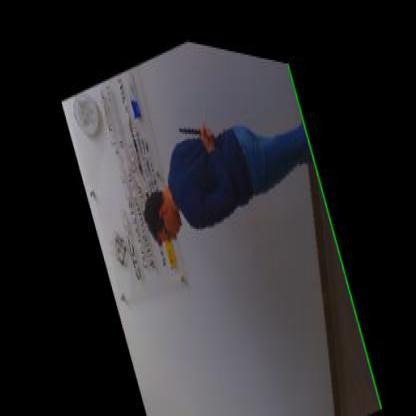knife: (172, 93, 216, 147)
